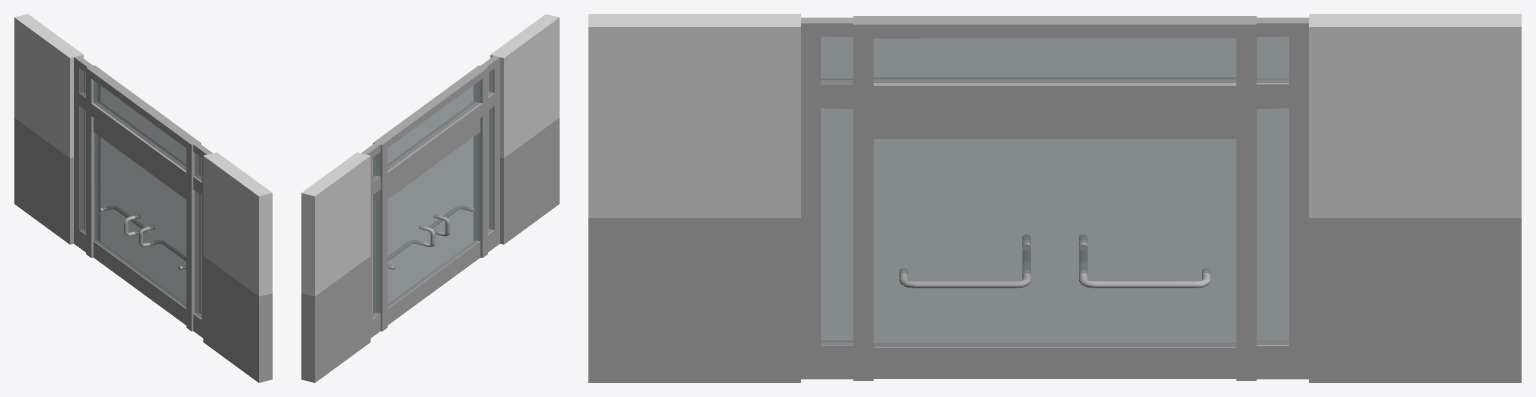
The model's file is group_school_frontdoor.fbx.
3 views of the same model, side by side, from view 1: azimuth 30°, elevation 25°; view 2: azimuth 150°, elevation 25°; view 3: azimuth 270°, elevation 25° (orthographic). The views are drawn at different scales.
Visible parts, largest first — view 1: fbx_school_door, fbx_school_door2, fbx_school_door1; view 2: fbx_school_door, fbx_school_door1, fbx_school_door2; view 3: fbx_school_door, fbx_school_door2, fbx_school_door1.
Boxes of the visible parts, x1,y1,x2,y2 form: fbx_school_door: [14, 14, 272, 382]; fbx_school_door2: [93, 118, 145, 291]; fbx_school_door1: [138, 153, 186, 324]; fbx_school_door: [301, 14, 559, 382]; fbx_school_door1: [428, 118, 480, 291]; fbx_school_door2: [387, 153, 435, 324]; fbx_school_door: [588, 14, 1521, 382]; fbx_school_door2: [1055, 109, 1236, 378]; fbx_school_door1: [873, 110, 1054, 378].
Size of the model in its own units: 0.5808 by 4.21 by 10.
3 materials, 1 textured.
